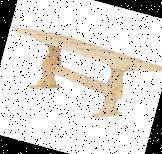Mesa: (0, 23, 161, 133)
